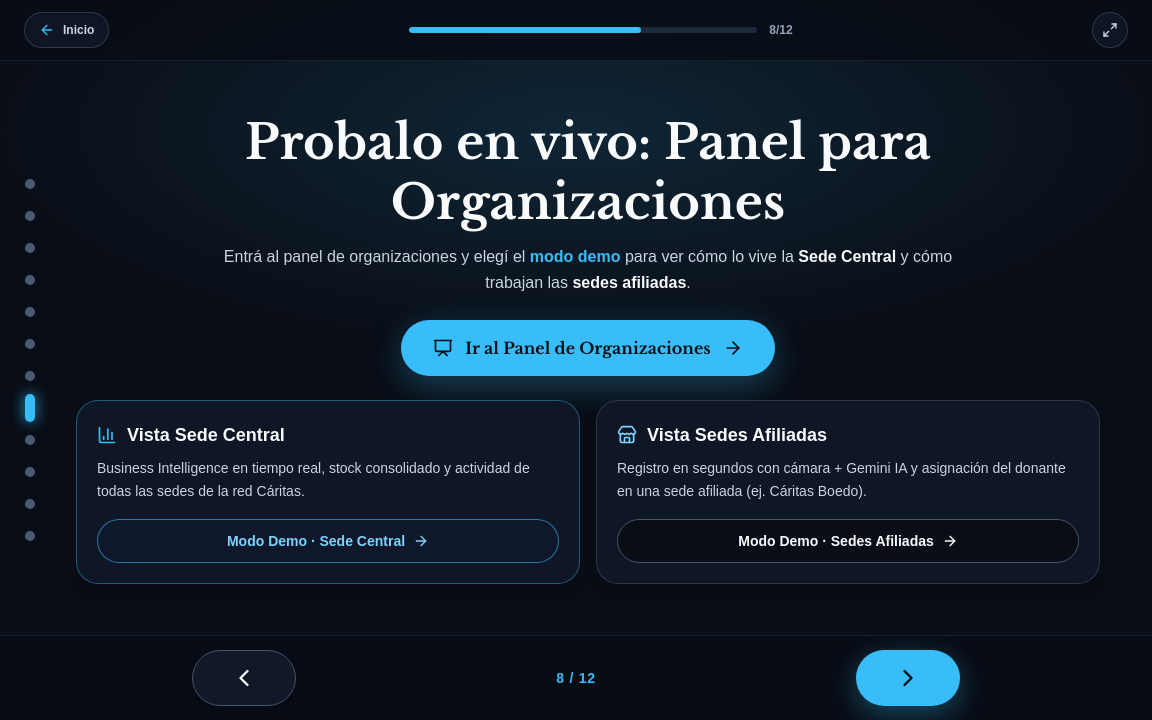
Test: DEMO competition presentation › navigates all 12 slides via left dot rail, large bottom arrows, and keyboard
Earlier steps of the test are not shown.
Check: the heading "Probalo en vivo: Panel para Organizaciones" is shown, box x1=245 y1=112 x2=931 y2=232
Check: the button "Ir al Panel de Organizaciones" is shown, box x1=401 y1=320 x2=775 y2=376
Click the button named "Siguiente diapositiva" at x=908, y=678, box x1=856 y1=650 x2=960 y2=706
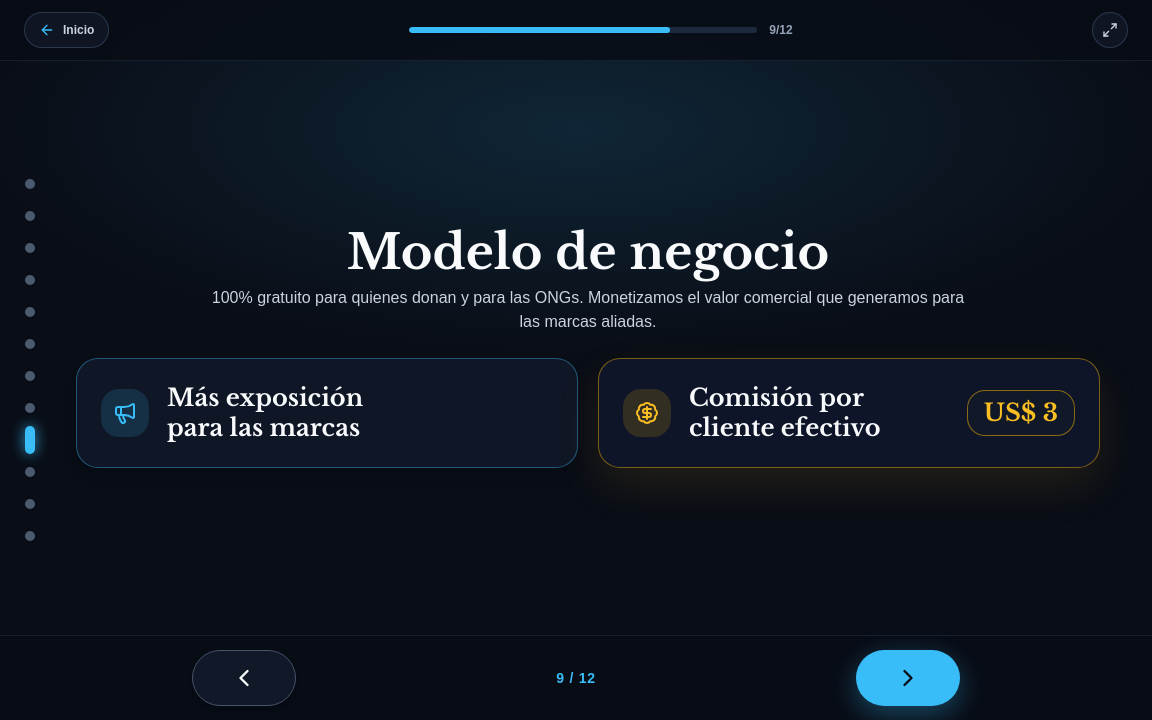
Check: the heading "Modelo de negocio" is shown, box x1=347 y1=222 x2=829 y2=282
Check: the heading "Más exposición para las marcas" is shown, box x1=167 y1=383 x2=363 y2=442
Check: the heading "Comisión por cliente efectivo" is shown, box x1=689 y1=383 x2=881 y2=442
Click the button named "Siguiente diapositiva" at x=908, y=678, box x1=856 y1=650 x2=960 y2=706
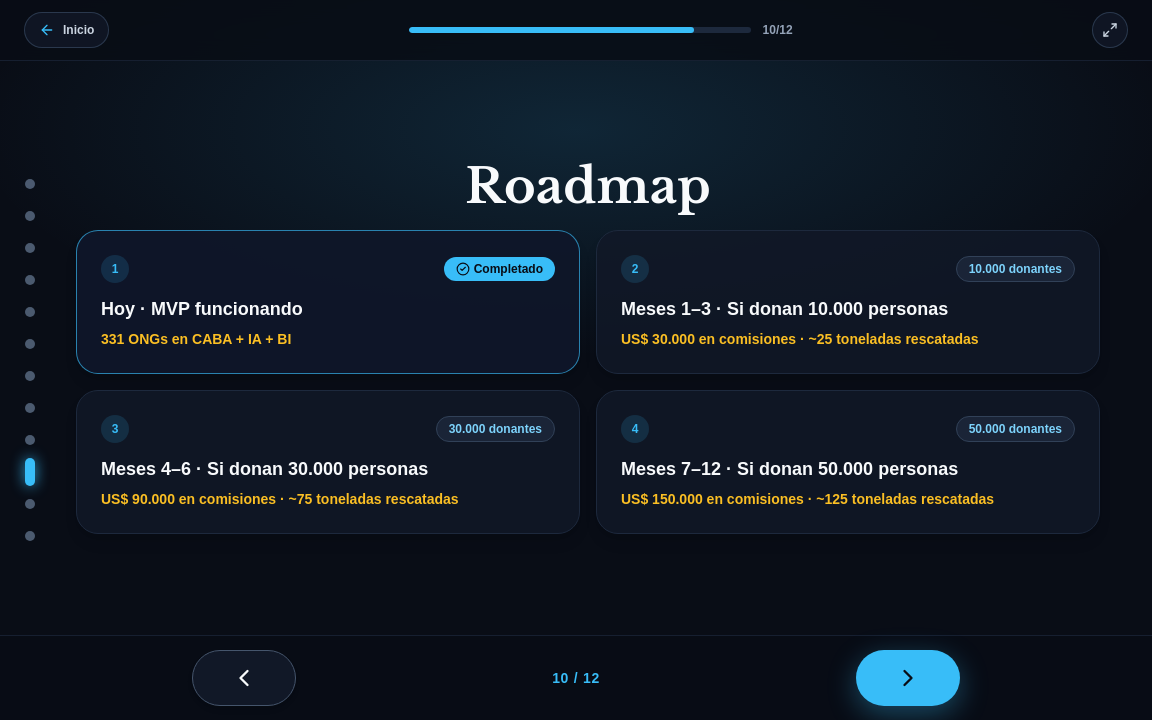
Check: the heading "Roadmap" is shown, box x1=465 y1=162 x2=711 y2=210
Check: the heading "Meses 1–3 · Si donan 10.000 personas" is shown, box x1=621 y1=299 x2=948 y2=319
Check: the heading "Meses 4–6 · Si donan 30.000 personas" is shown, box x1=101 y1=459 x2=428 y2=479
Click the button named "Siguiente diapositiva" at x=908, y=678, box x1=856 y1=650 x2=960 y2=706
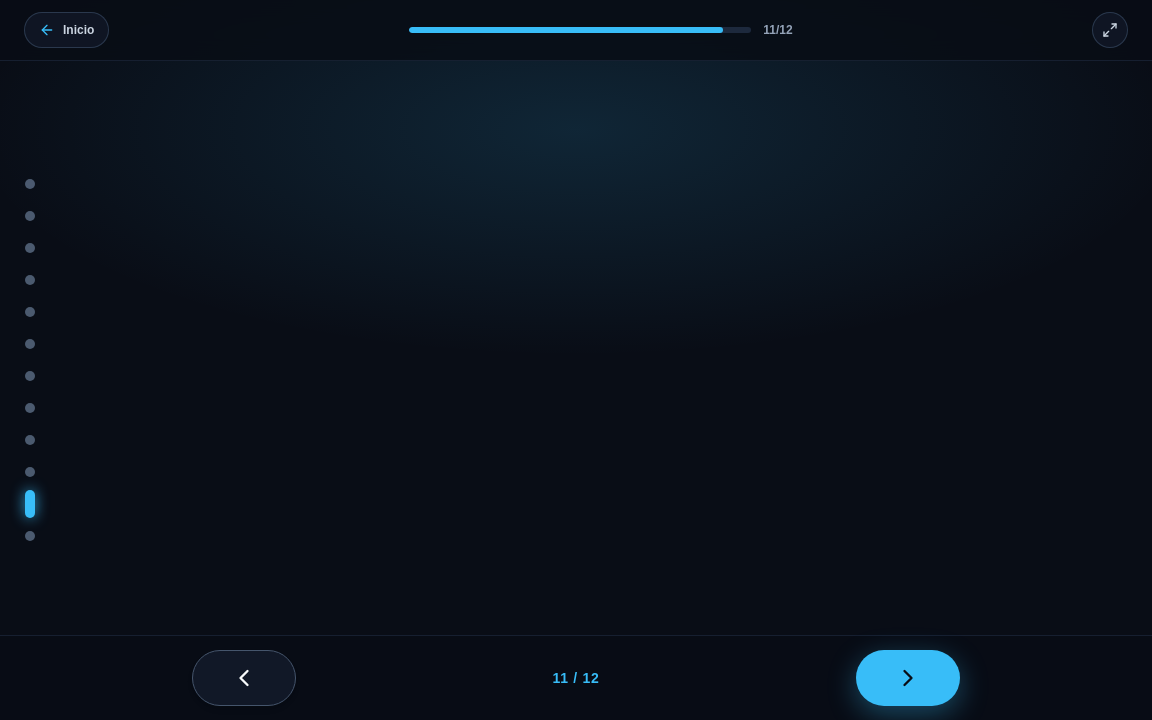
Check: the text "11 / 12" is shown, box x1=552 y1=668 x2=600 y2=688
Click the button named "Siguiente diapositiva" at x=908, y=678, box x1=856 y1=650 x2=960 y2=706
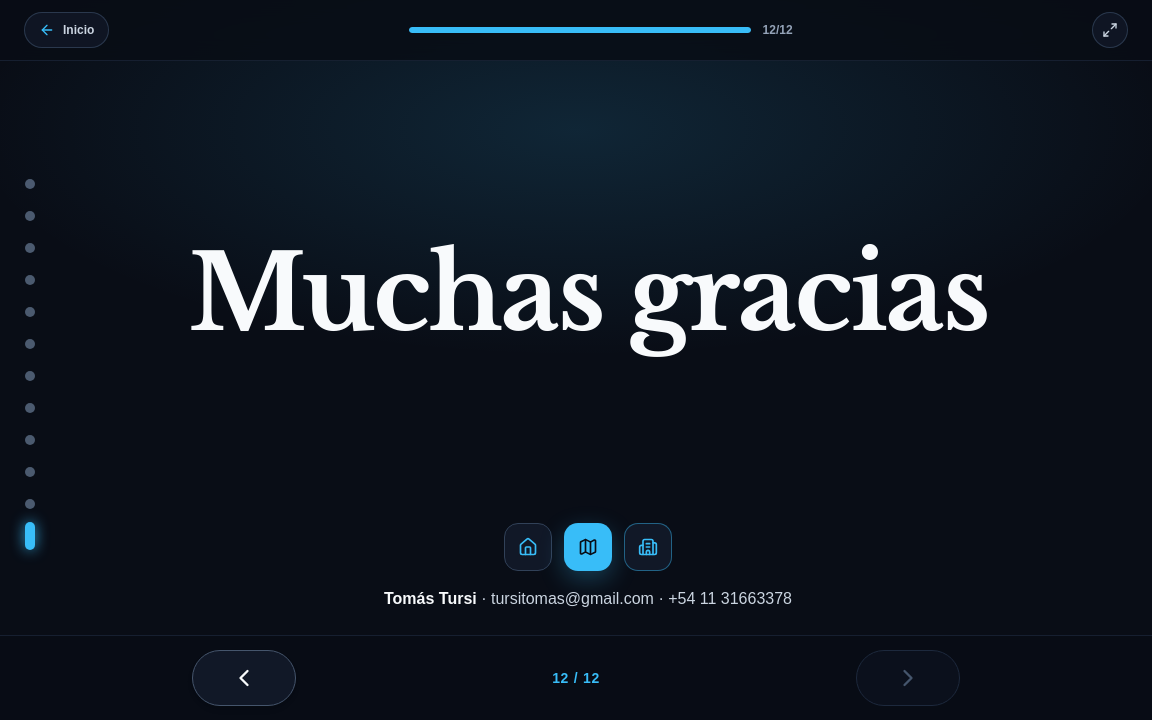
Check: the text "12 / 12" is shown, box x1=552 y1=668 x2=600 y2=688
Check: the heading "Muchas gracias" is shown, box x1=188 y1=242 x2=988 y2=346
Check: the text "Tomás Tursi" is shown, box x1=384 y1=590 x2=477 y2=607
Click the button named "Diapositiva anterior" at x=244, y=678, box x1=192 y1=650 x2=296 y2=706
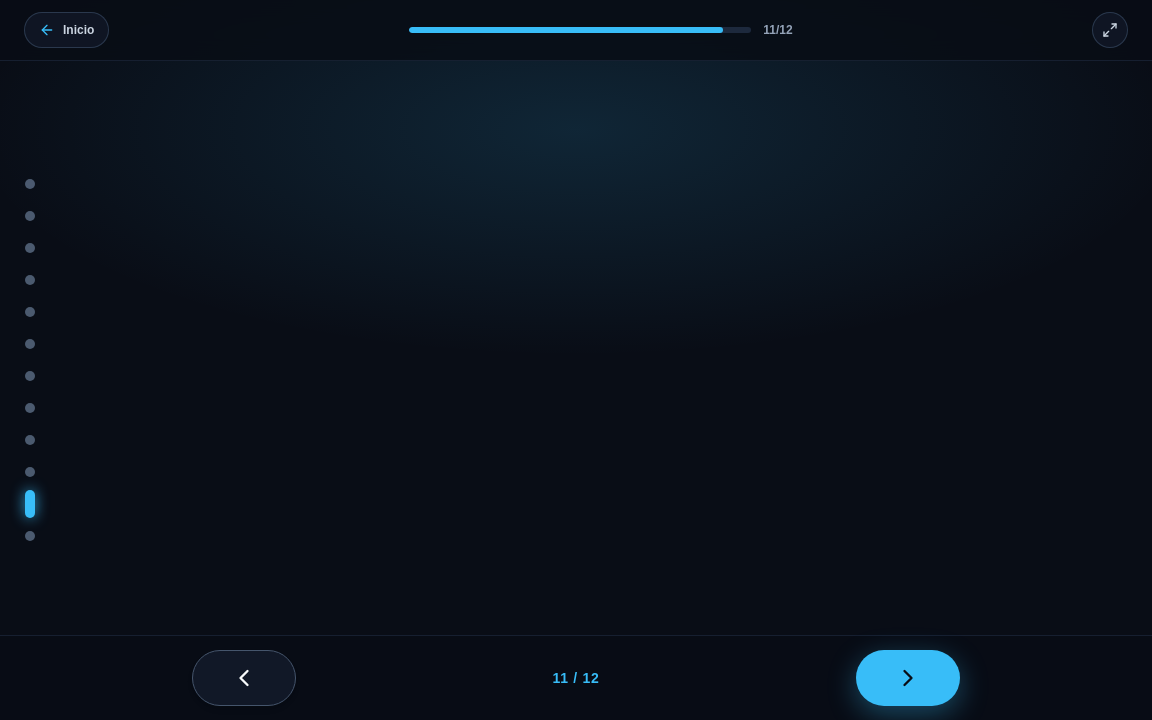
Press ArrowLeft
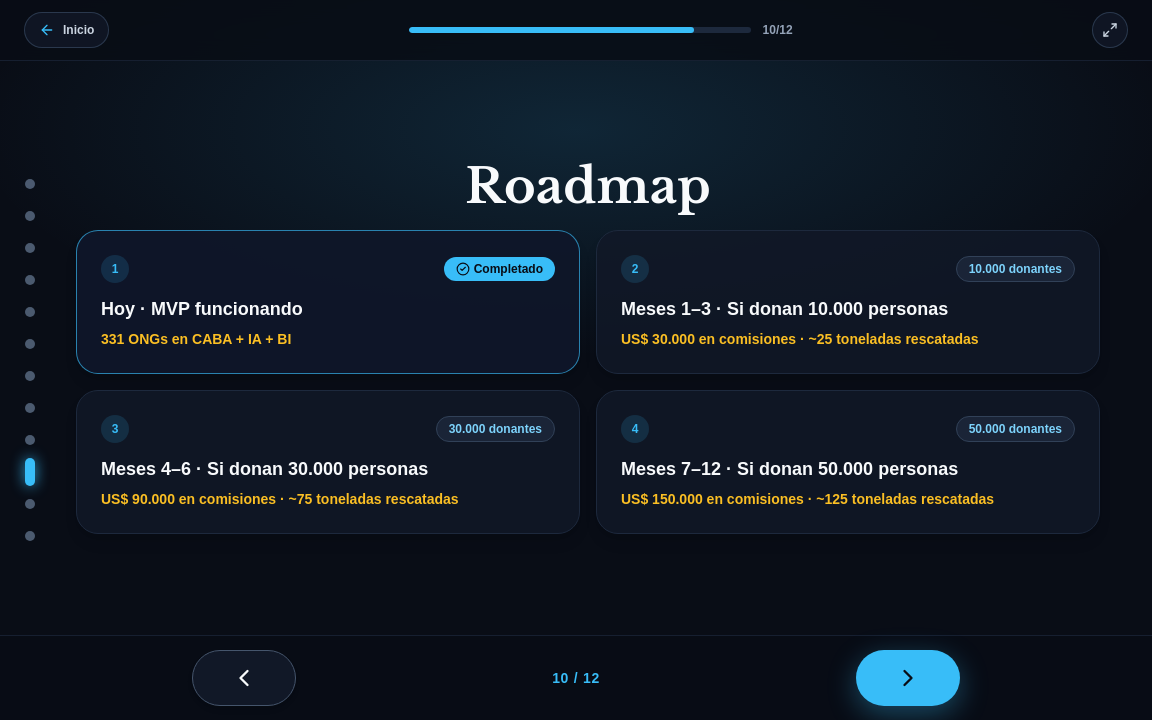
Check: the heading "Roadmap" is shown, box x1=465 y1=162 x2=711 y2=210
